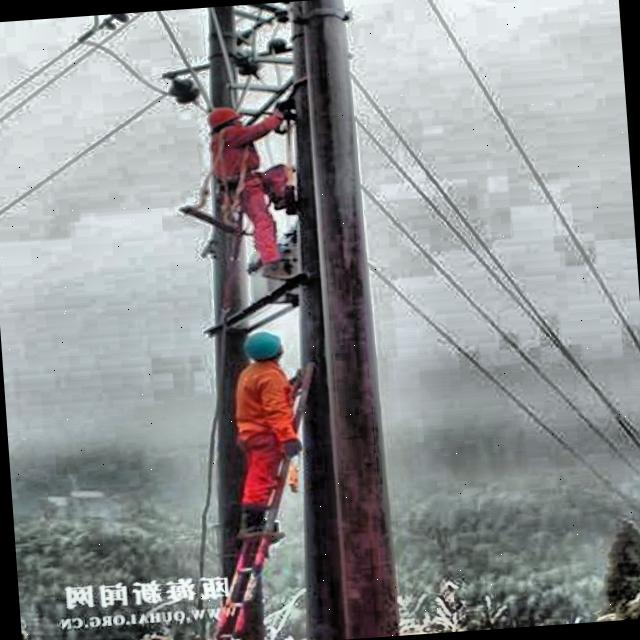helmet: (241, 329, 285, 370), (203, 102, 244, 141)
